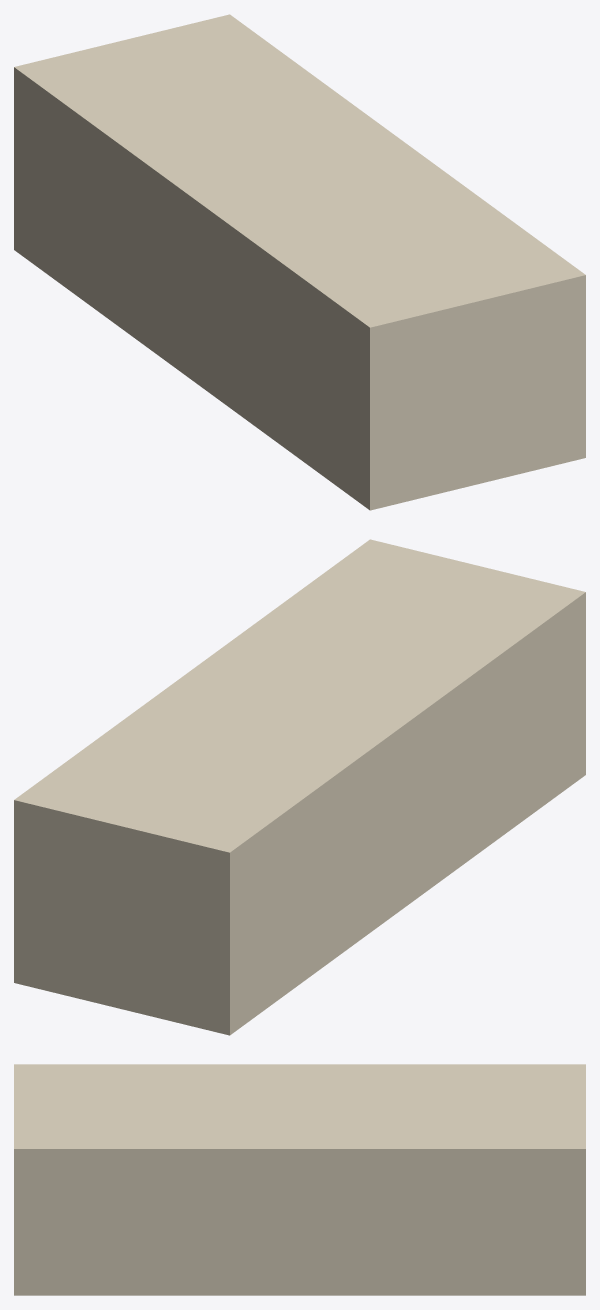
The picture shows the model from 3 angles, top to bottom: view 1: azimuth 30°, elevation 25°; view 2: azimuth 150°, elevation 25°; view 3: azimuth 270°, elevation 25°; orthographic projection. The views are drawn at different scales.
Parts seen in each view (by area): view 1: B-GF-WINDOW-008-HEAD; view 2: B-GF-WINDOW-008-HEAD; view 3: B-GF-WINDOW-008-HEAD.
Part boxes in pixels (x1,y1,x2,y2): B-GF-WINDOW-008-HEAD: (14, 14, 585, 510); B-GF-WINDOW-008-HEAD: (14, 539, 585, 1035); B-GF-WINDOW-008-HEAD: (14, 1064, 585, 1295).
Size of the model in its own units: 0.21 by 0.17 by 0.6.
